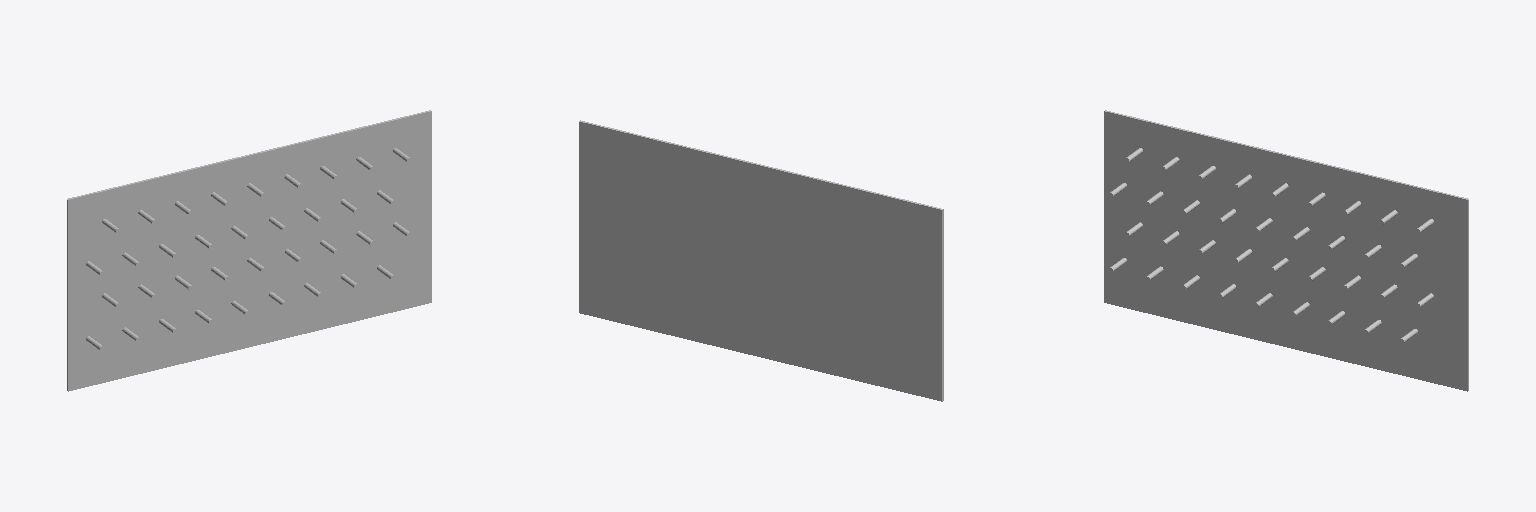
The model's file is boardWpegs.obj.
3 views of the same model, side by side, from view 1: azimuth 30°, elevation 25°; view 2: azimuth 150°, elevation 25°; view 3: azimuth 330°, elevation 25° (orthographic).
Visible parts, largest first — view 1: Cylinder.004; view 2: Cylinder.004; view 3: Cylinder.004.
Boxes of the visible parts, x1,y1,x2,y2 form: Cylinder.004: [67, 110, 431, 391]; Cylinder.004: [579, 120, 943, 401]; Cylinder.004: [1104, 110, 1468, 391].
Bounding box in the file's own units: 30 × 15.12 × 2.17.